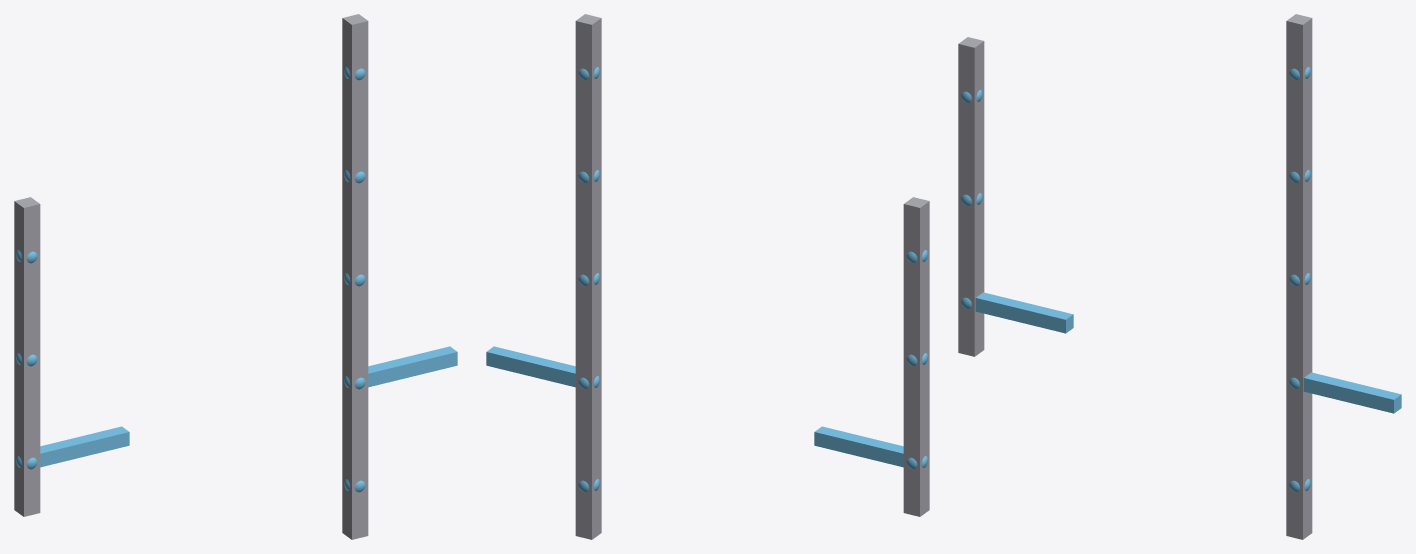
File: moved-ownership.glb
3 renders of one model, left to right at view 1: azimuth 30°, elevation 25°; view 2: azimuth 150°, elevation 25°; view 3: azimuth 330°, elevation 25°, orthographic.
Parts seen in each view (by area): view 1: second, first, first.blade, second.blade; view 2: second, first, first.blade, second.blade; view 3: second, first, first.blade, second.blade.
Boxes of the visible parts, <box> form: second: <box>342,14,368,539</box>; first: <box>14,197,40,516</box>; first.blade: <box>40,426,129,467</box>; second.blade: <box>368,346,457,387</box>; second: <box>575,14,601,539</box>; first: <box>903,197,929,516</box>; first.blade: <box>814,426,903,467</box>; second.blade: <box>486,346,575,387</box>; second: <box>1286,14,1312,539</box>; first: <box>958,37,984,356</box>; first.blade: <box>975,292,1073,333</box>; second.blade: <box>1303,372,1401,413</box>.
Size of the model in its own units: 2.66 by 3 by 0.12.
